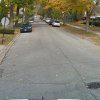Car: (19, 17, 35, 37)
